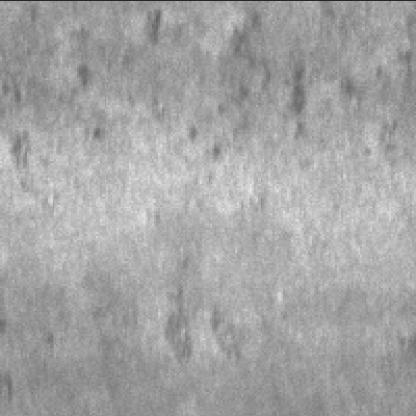rolled-in_scale: (66, 13, 406, 158), (158, 276, 241, 375)
